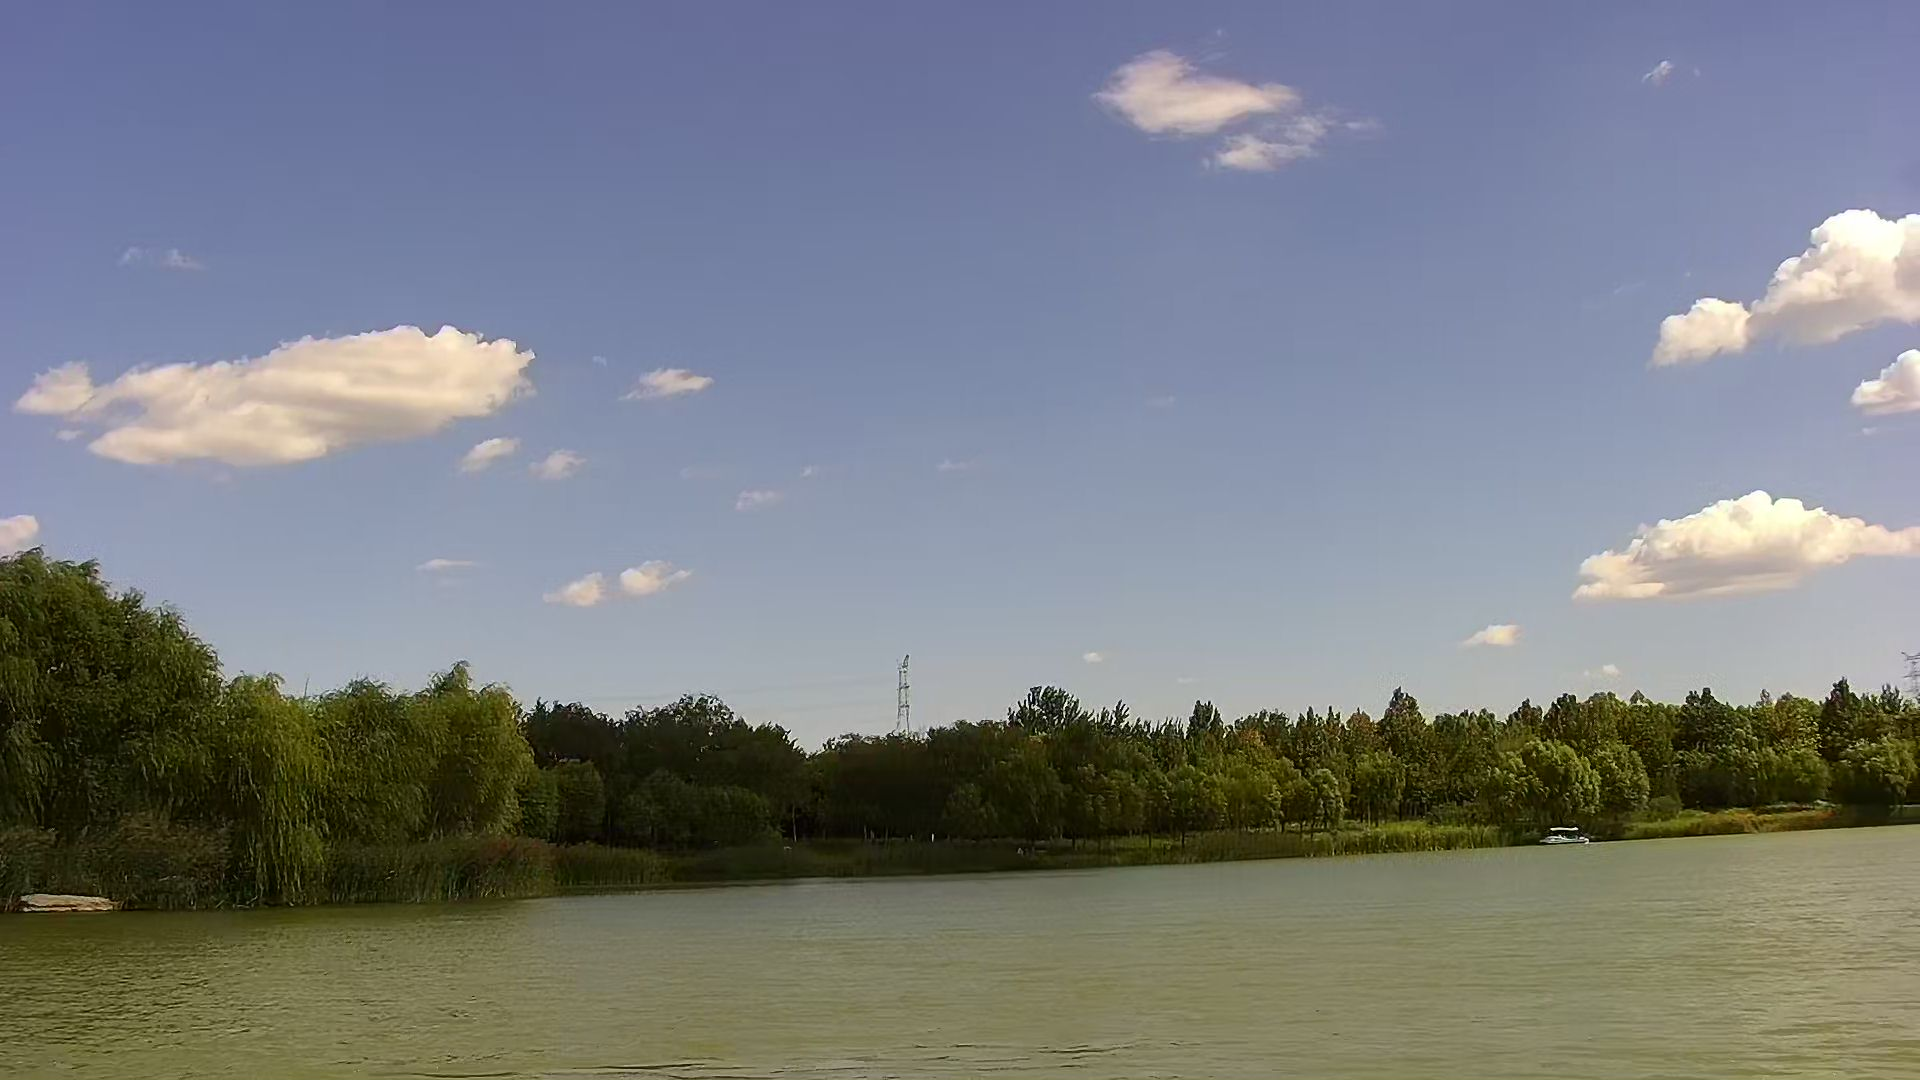boat: (1538, 823, 1592, 845)
